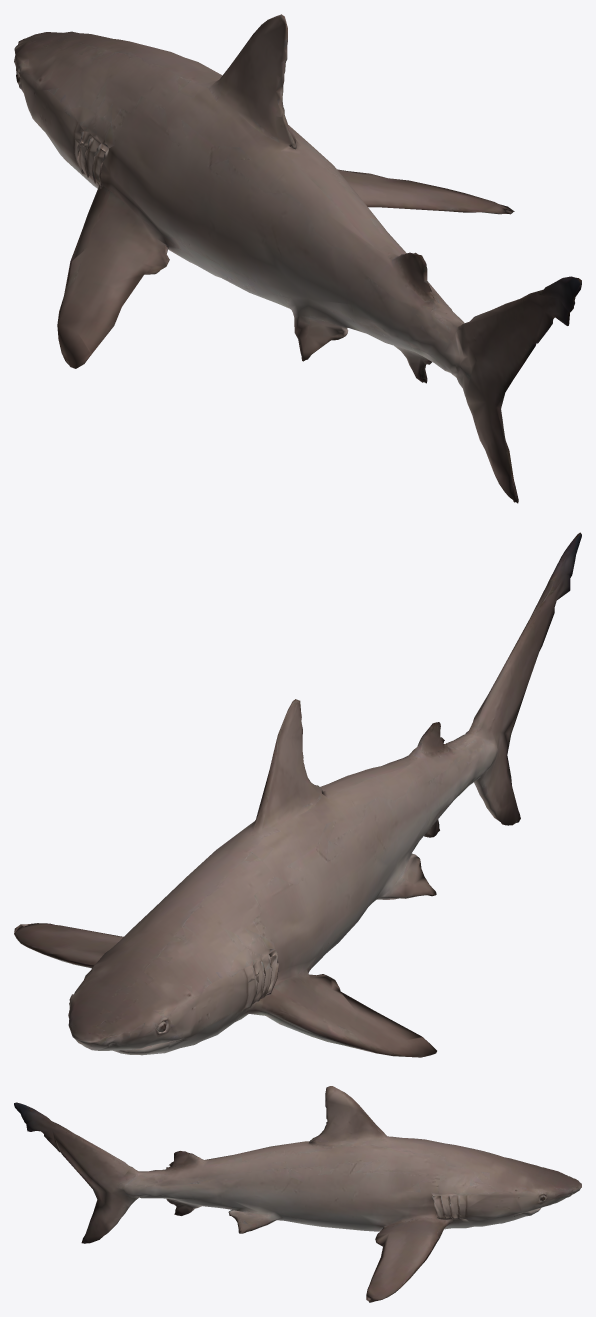
File: galapagoshaai.glb
3 views of the same model, one above another, from view 1: azimuth 30°, elevation 25°; view 2: azimuth 150°, elevation 25°; view 3: azimuth 270°, elevation 25° (orthographic). The views are drawn at different scales.
Visible parts, largest first — view 1: tripo_node_f29c880e-dbe2-418a-ad58-962c9f433702; view 2: tripo_node_f29c880e-dbe2-418a-ad58-962c9f433702; view 3: tripo_node_f29c880e-dbe2-418a-ad58-962c9f433702.
Boxes of the visible parts, x1,y1,x2,y2 form: tripo_node_f29c880e-dbe2-418a-ad58-962c9f433702: [14, 14, 581, 503]; tripo_node_f29c880e-dbe2-418a-ad58-962c9f433702: [14, 532, 581, 1057]; tripo_node_f29c880e-dbe2-418a-ad58-962c9f433702: [14, 1086, 581, 1302].
Bounding box in the file's own units: 2.62 × 1.8 × 5.51.
1 material, 1 textured.
